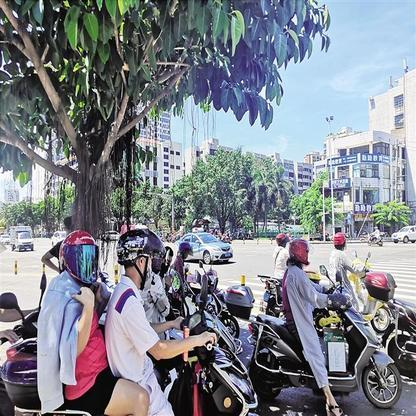target: (7, 227, 257, 411), (255, 239, 398, 410)
